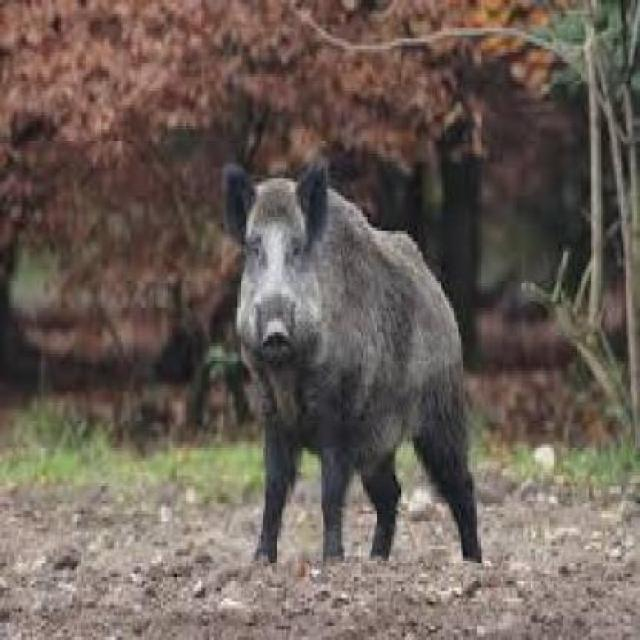wildboar: (220, 158, 488, 567)
